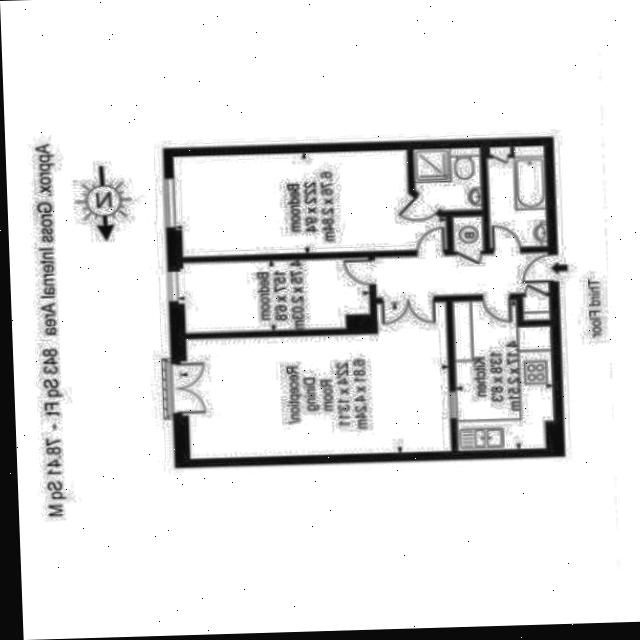room: (185, 303, 452, 457), (174, 147, 448, 255), (454, 299, 553, 450), (182, 257, 370, 331), (375, 251, 550, 296), (487, 145, 548, 247), (413, 147, 481, 211), (452, 215, 482, 250), (523, 295, 550, 319)
